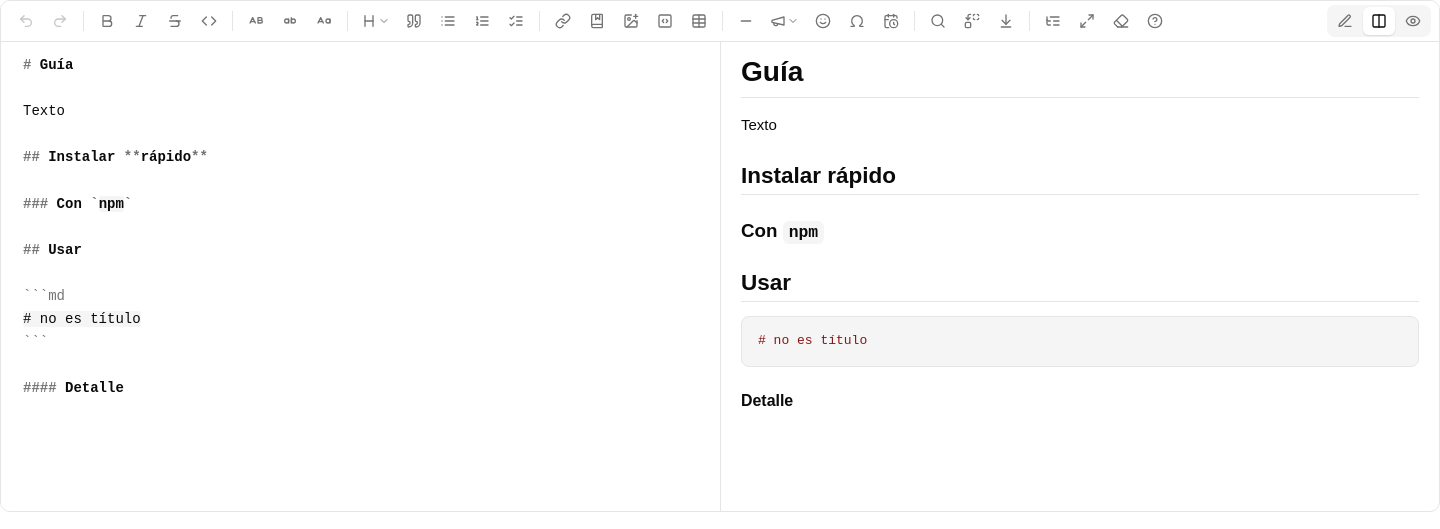
opens and closes the outline from its tool
Check: the navigation bar "Índice" is not shown
Click the button named "Índice".
click(1053, 21)  # box [1037, 5, 1069, 37]
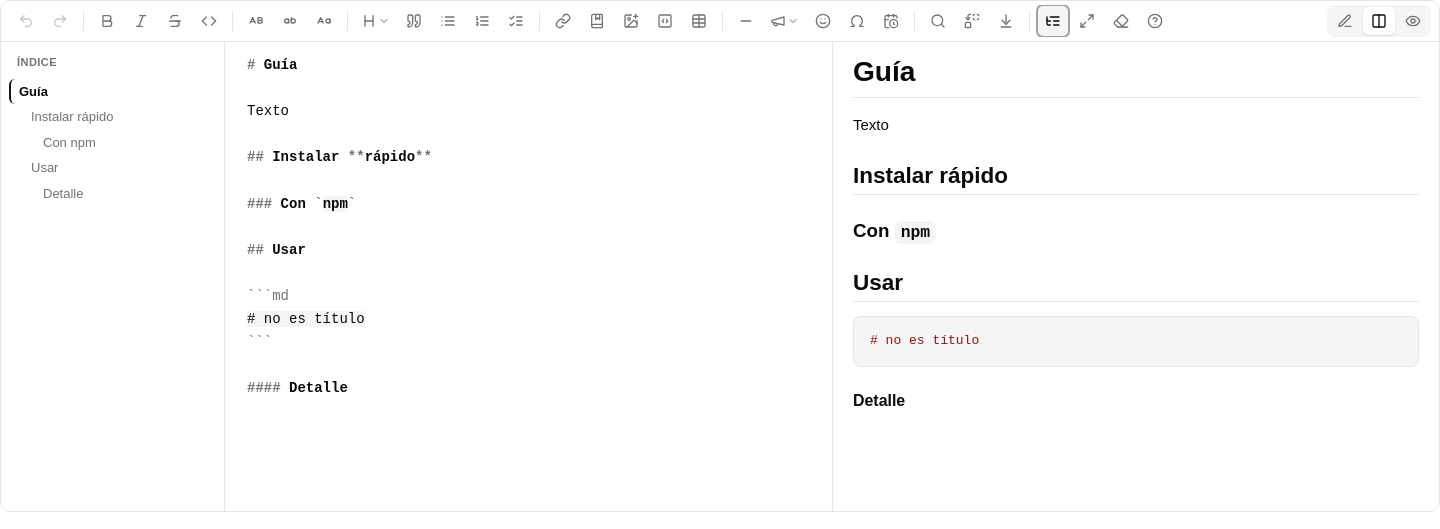
Check: the buttons read "Guía", "Instalar rápido", "Con npm", "Usar", "Detalle", in this order, box [9, 78, 216, 104]; [21, 104, 216, 130]; [33, 130, 216, 155]; [21, 155, 216, 181]; [33, 181, 216, 206]
Click the button named "Índice".
click(1053, 21)  # box [1037, 5, 1069, 37]
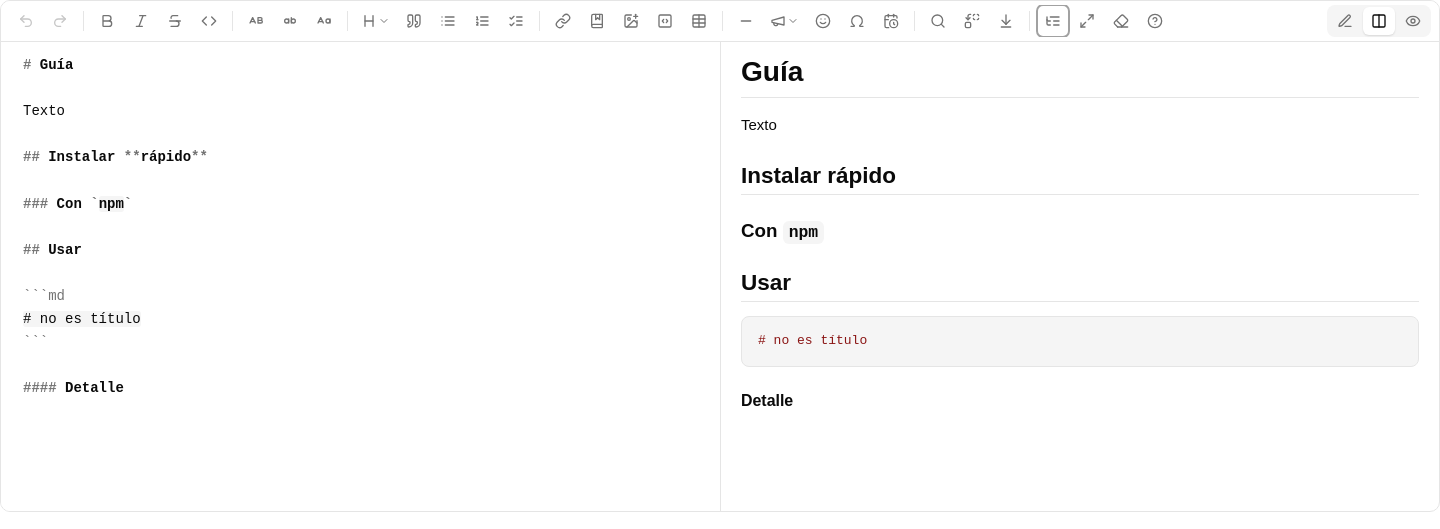
Check: the text "Índice" is gone
